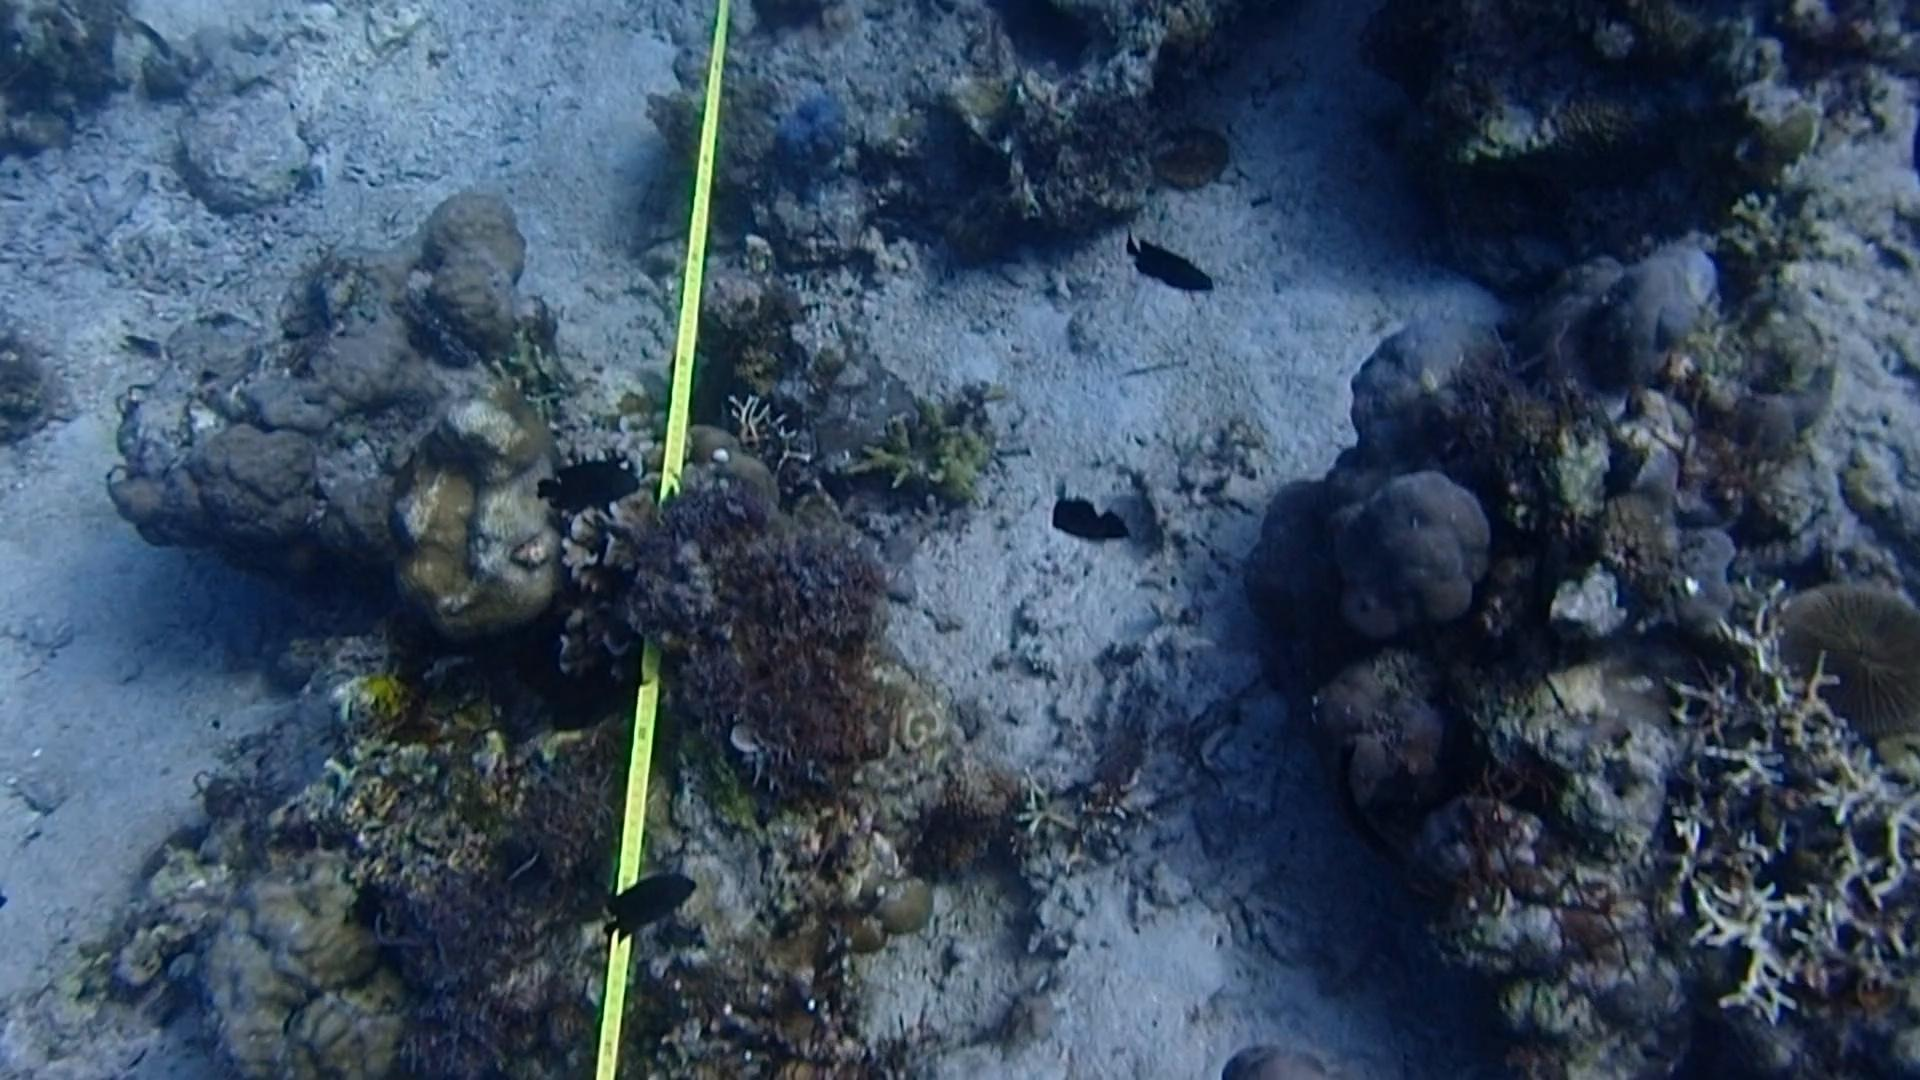Dark Fish: (1304, 736, 1444, 897), (587, 858, 704, 959), (1510, 538, 1589, 675), (543, 661, 642, 760), (1116, 233, 1225, 299), (1047, 480, 1134, 562), (546, 451, 640, 520)
Light Fish: (133, 8, 179, 73)
